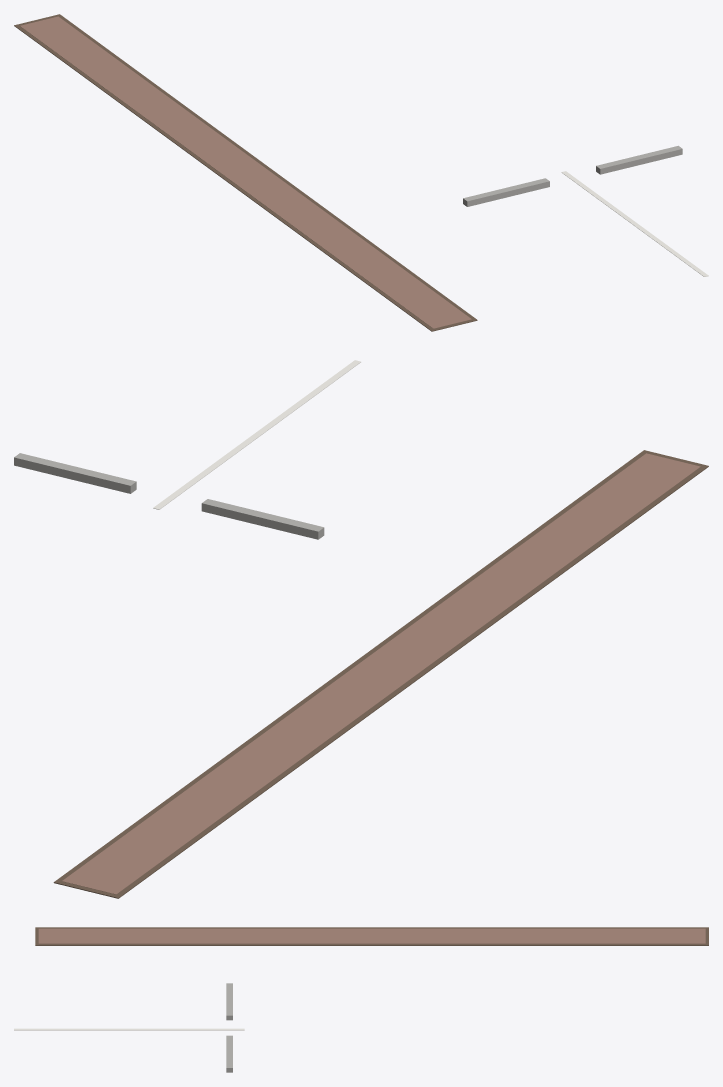
File: fine-s0.glb
The picture shows the model from 3 angles, top to bottom: view 1: azimuth 30°, elevation 25°; view 2: azimuth 150°, elevation 25°; view 3: azimuth 270°, elevation 25°; orthographic projection. The views are drawn at different scales.
Visible parts, largest first — view 1: soft-s0; view 2: soft-s0; view 3: soft-s0.
Boxes of the visible parts, x1=… form: soft-s0: x1=14, y1=14, x2=708, y2=331; soft-s0: x1=14, y1=360, x2=708, y2=898; soft-s0: x1=14, y1=927, x2=708, y2=1072.
Bounding box in the file's own units: 8.05 × 0.13 × 16.28.
